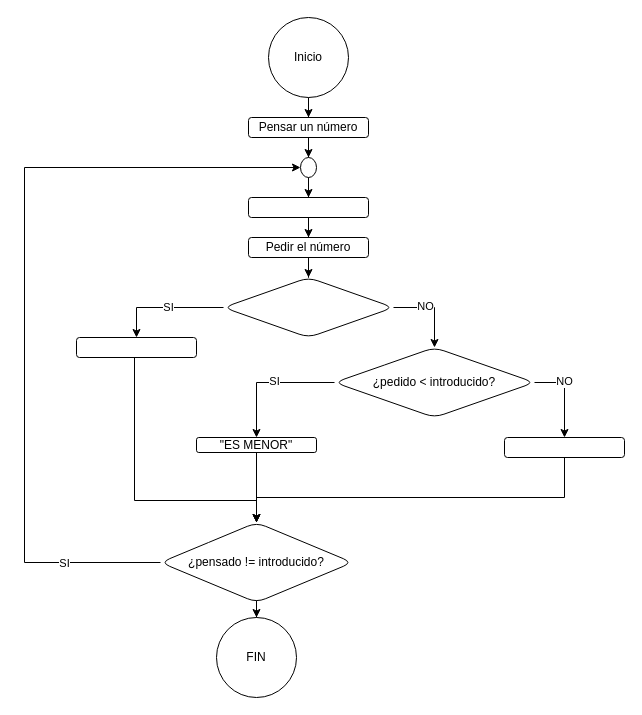
This 642x715 diagram has some shape labels left out. The centre of each missing label's shape, as x and y in pixels:
"Dime un número": the point at 308,207
"ES MAYOR": the point at 136,347
"HAS ACERTADO": the point at 564,447
¿pedido > introducido?: the point at 308,307
